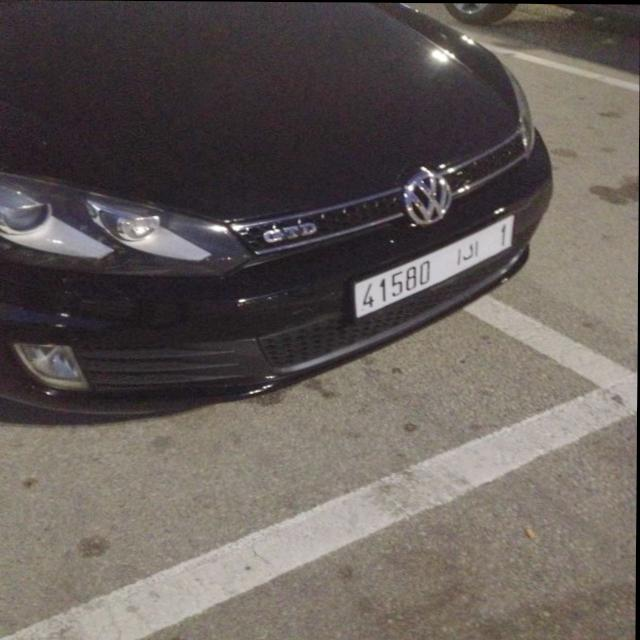License-Plate: (355, 216, 514, 316)
